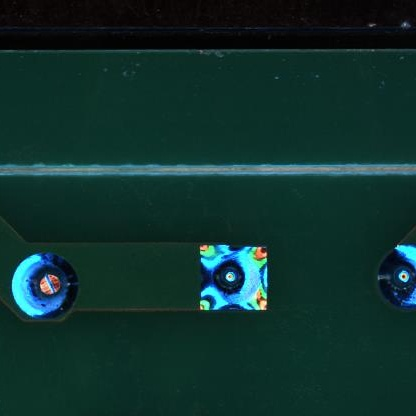spot: (197, 240, 270, 316), (10, 251, 78, 320), (377, 244, 416, 309)
